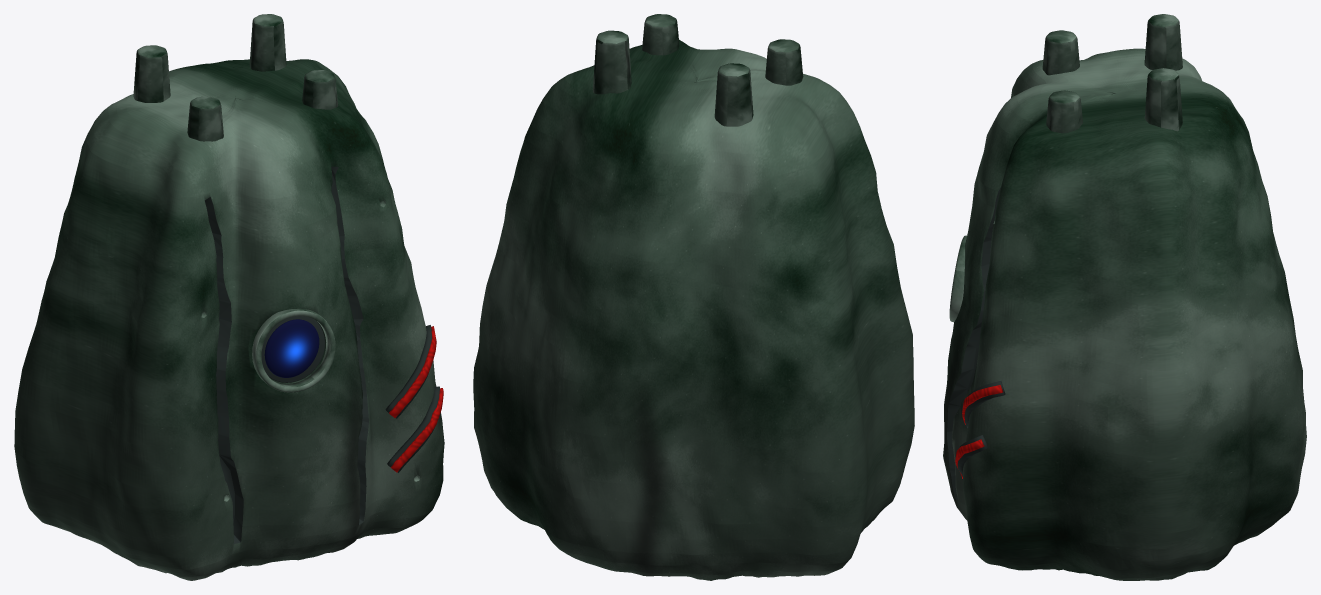
3 renders of one model, left to right at view 1: azimuth 30°, elevation 25°; view 2: azimuth 150°, elevation 25°; view 3: azimuth 270°, elevation 25°, orthographic. The views are drawn at different scales.
Parts seen in each view (by area): view 1: Na-Shrekn ribbed upright mineral monolith, Na-Shrekn navy front focusing lens, Na-Shrekn worn front focusing bezel, Na-Shrekn short crown post 0, Na-Shrekn short crown post 1, Na-Shrekn short crown post 2, Na-Shrekn short crown post 3, Na-Shrekn dark focusing recess, Na-Shrekn red diagonal strip 1, Na-Shrekn red diagonal strip 0, Na-Shrekn dark strip bed 1, Na-Shrekn dark strip bed 0; view 2: Na-Shrekn ribbed upright mineral monolith, Na-Shrekn short crown post 1, Na-Shrekn short crown post 0, Na-Shrekn short crown post 2, Na-Shrekn short crown post 3; view 3: Na-Shrekn ribbed upright mineral monolith, Na-Shrekn short crown post 1, Na-Shrekn short crown post 0, Na-Shrekn short crown post 2, Na-Shrekn short crown post 3, Na-Shrekn worn front focusing bezel.
Boxes of the visible parts, x1,y1,x2,y2 form: Na-Shrekn ribbed upright mineral monolith: (14,59,444,580); Na-Shrekn navy front focusing lens: (264,319,319,377); Na-Shrekn worn front focusing bezel: (252,308,335,392); Na-Shrekn short crown post 0: (133,45,170,102); Na-Shrekn short crown post 1: (249,14,286,71); Na-Shrekn short crown post 2: (187,96,223,141); Na-Shrekn short crown post 3: (302,70,338,109); Na-Shrekn dark focusing recess: (261,316,324,382); Na-Shrekn red diagonal strip 1: (389,326,436,417); Na-Shrekn red diagonal strip 0: (391,388,443,472); Na-Shrekn dark strip bed 1: (385,325,431,418); Na-Shrekn dark strip bed 0: (387,386,439,472); Na-Shrekn ribbed upright mineral monolith: (473,39,914,580); Na-Shrekn short crown post 1: (592,30,631,94); Na-Shrekn short crown post 0: (714,63,753,126); Na-Shrekn short crown post 2: (765,39,803,85); Na-Shrekn short crown post 3: (642,14,679,55); Na-Shrekn ribbed upright mineral monolith: (943,48,1306,580); Na-Shrekn short crown post 1: (1144,68,1182,131); Na-Shrekn short crown post 0: (1144,14,1182,70); Na-Shrekn short crown post 2: (1042,30,1079,75); Na-Shrekn short crown post 3: (1046,90,1082,133); Na-Shrekn worn front focusing bezel: (949,235,966,322).
Size of the model in its own units: 1.32 by 1.6 by 1.1.
Materials: 6 (5 with a texture image).
